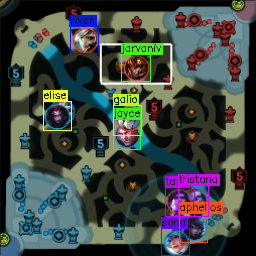aphelios: (180, 216, 206, 242)
camille: (51, 100, 74, 122)
elise: (44, 104, 67, 128)
galio: (114, 105, 141, 131)
jarvaniv: (123, 54, 148, 79)
jayce: (115, 125, 139, 147)
riven: (72, 28, 97, 52)
sona: (163, 231, 188, 254)
taric: (166, 188, 189, 211)
tristana: (183, 189, 205, 212)
